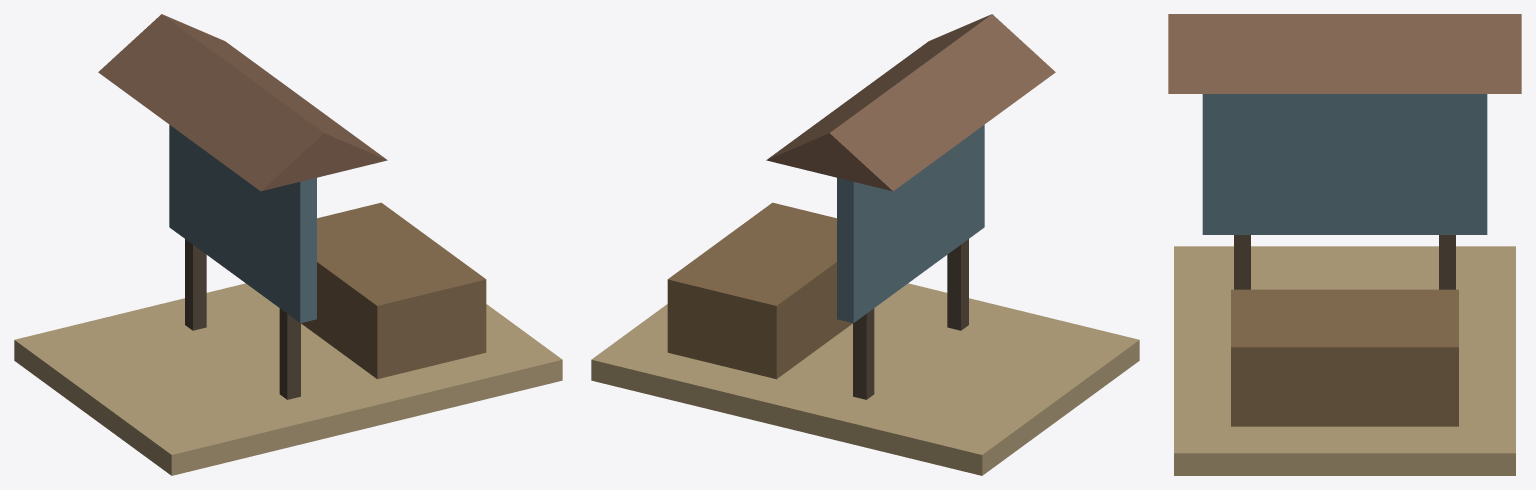
File: layout_auction.glb
The picture shows the model from 3 angles, left to right: view 1: azimuth 30°, elevation 25°; view 2: azimuth 150°, elevation 25°; view 3: azimuth 270°, elevation 25°; orthographic projection. The views are drawn at different scales.
Visible parts, largest first — view 1: auction_HarborLayout_sand, auction_HarborLayout_roof, auction_HarborLayout_wood, auction_HarborLayout_blue, auction_HarborLayout_beam; view 2: auction_HarborLayout_sand, auction_HarborLayout_roof, auction_HarborLayout_wood, auction_HarborLayout_blue, auction_HarborLayout_beam; view 3: auction_HarborLayout_sand, auction_HarborLayout_blue, auction_HarborLayout_wood, auction_HarborLayout_roof, auction_HarborLayout_beam.
Part boxes in pixels (bbox=[...]): auction_HarborLayout_sand: bbox=[14, 283, 562, 475]; auction_HarborLayout_roof: bbox=[98, 14, 387, 191]; auction_HarborLayout_wood: bbox=[301, 202, 486, 379]; auction_HarborLayout_blue: bbox=[169, 125, 316, 323]; auction_HarborLayout_beam: bbox=[185, 239, 300, 399]; auction_HarborLayout_sand: bbox=[591, 283, 1139, 475]; auction_HarborLayout_roof: bbox=[766, 14, 1055, 191]; auction_HarborLayout_wood: bbox=[667, 202, 852, 379]; auction_HarborLayout_blue: bbox=[837, 125, 984, 323]; auction_HarborLayout_beam: bbox=[853, 239, 968, 399]; auction_HarborLayout_sand: bbox=[1174, 246, 1515, 475]; auction_HarborLayout_blue: bbox=[1202, 94, 1487, 234]; auction_HarborLayout_wood: bbox=[1231, 289, 1458, 426]; auction_HarborLayout_roof: bbox=[1168, 14, 1521, 93]; auction_HarborLayout_beam: bbox=[1234, 235, 1455, 289].
Size of the model in its own units: 4.3 by 3.24 by 3.1.
